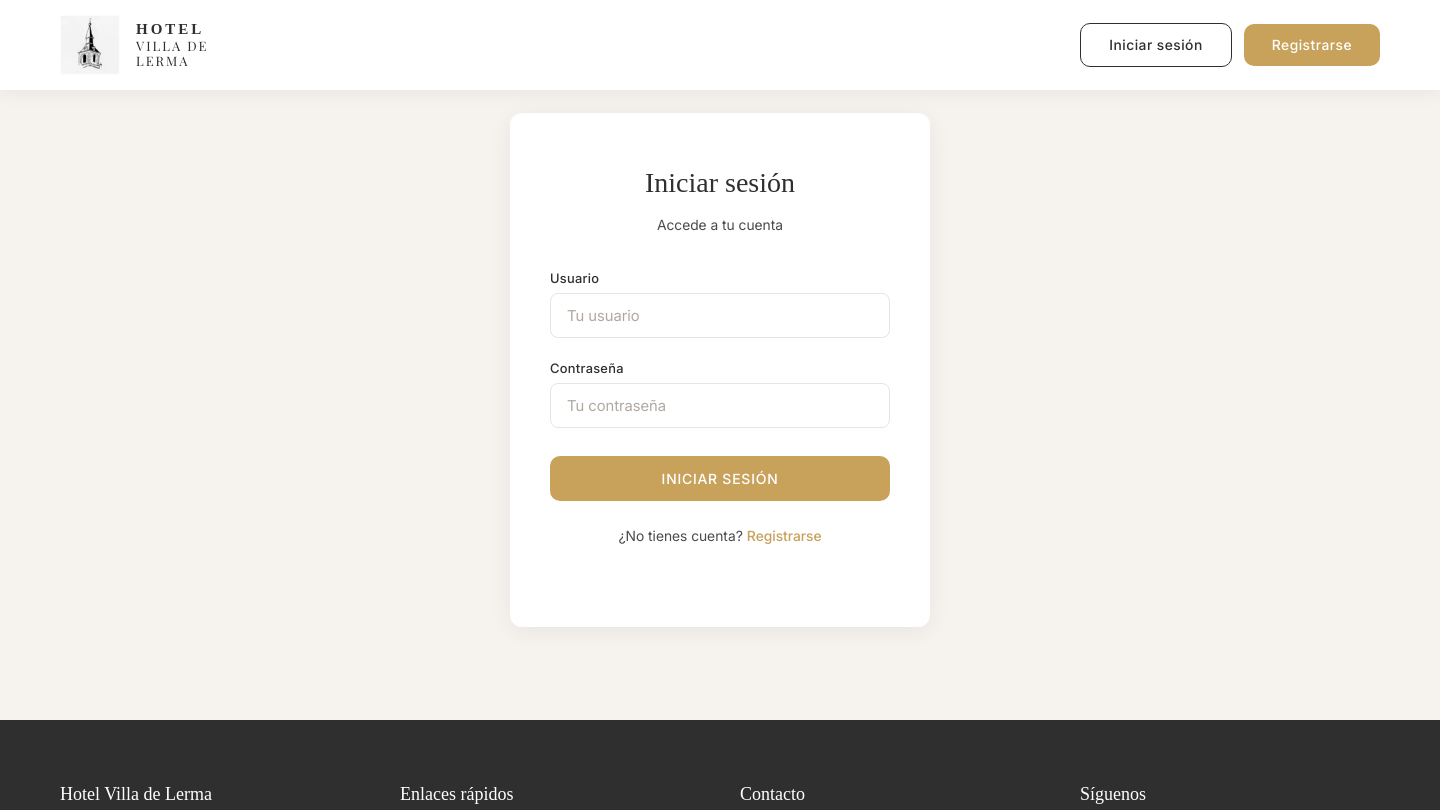
Test: Login › credenciales inválidas muestra error
In the field labelled "Usuario": (720, 315) [550,293,890,338], type "malo"
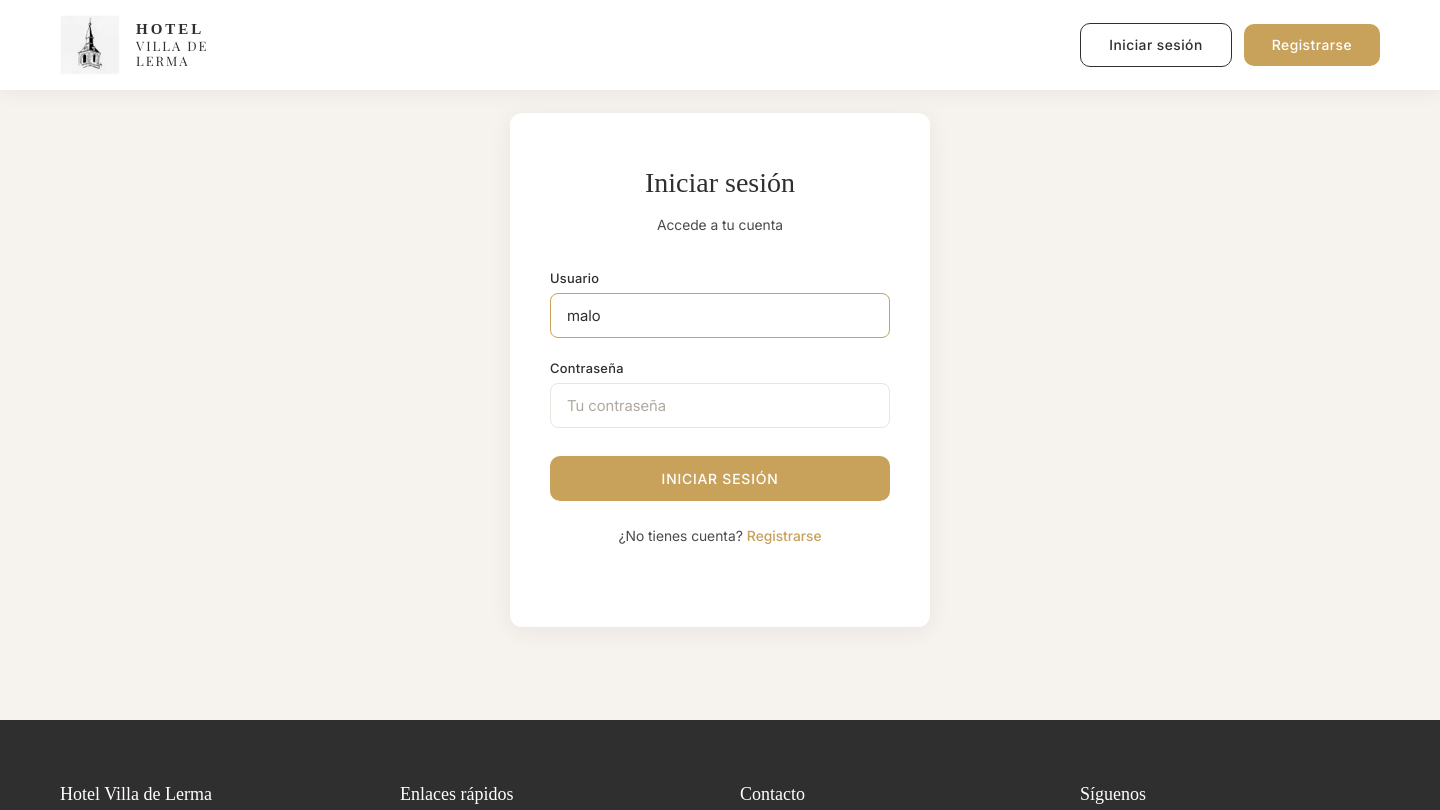
In the password field labelled "Contraseña": (720, 405) [550,383,890,428], type "mal"
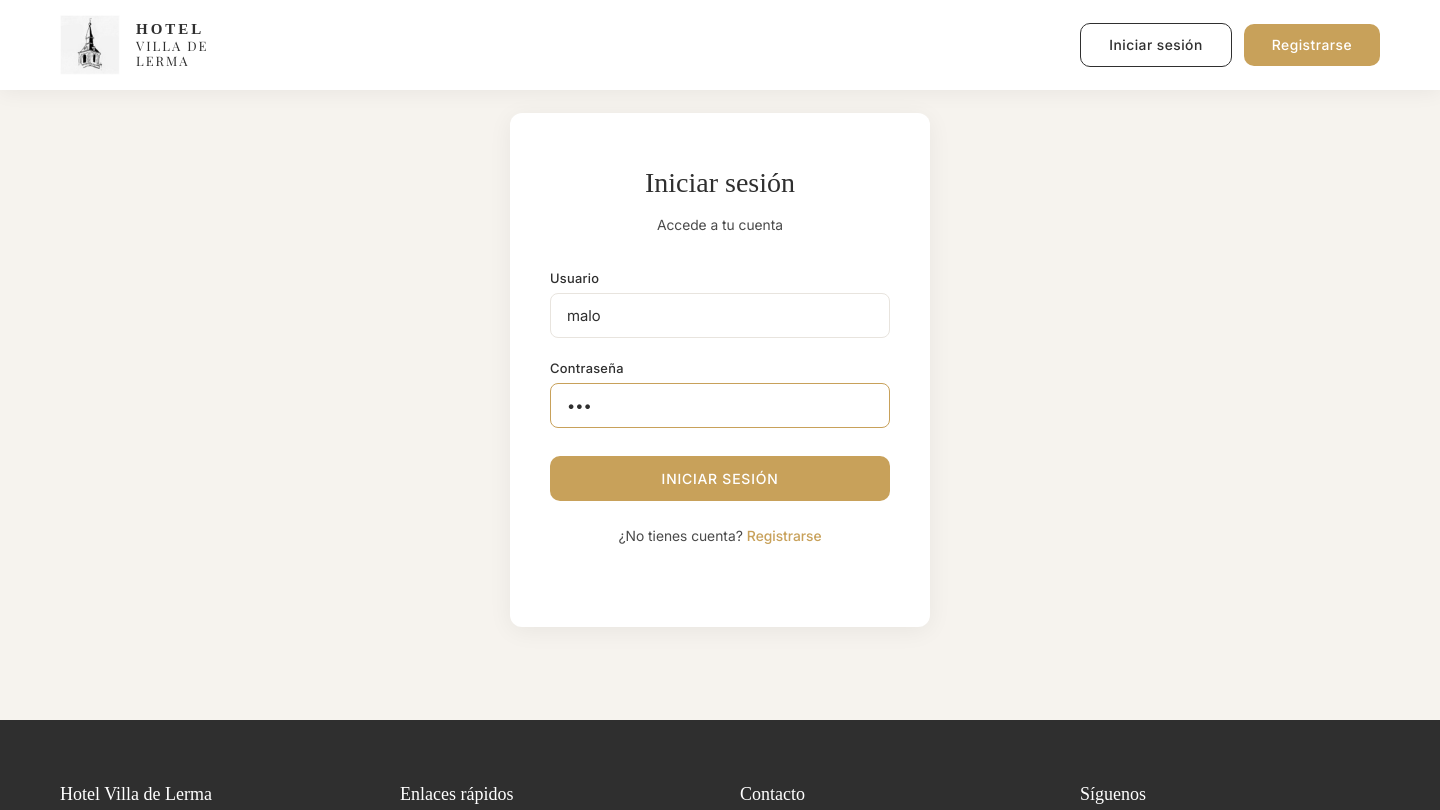
Click the button "Iniciar sesión": (720, 478) [550,456,890,501]
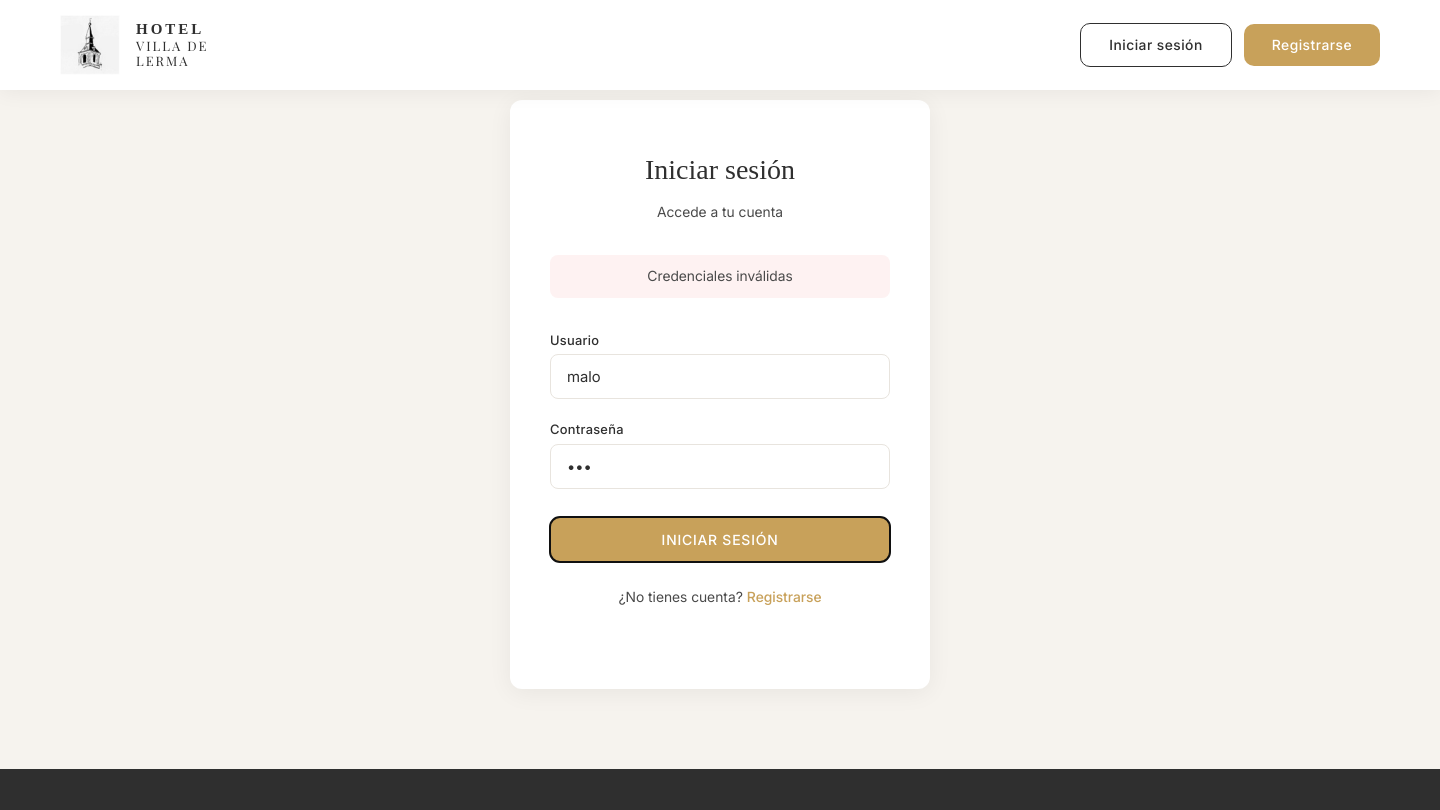
Check: the text "Credenciales inválidas" is shown, box [550,255,890,298]
